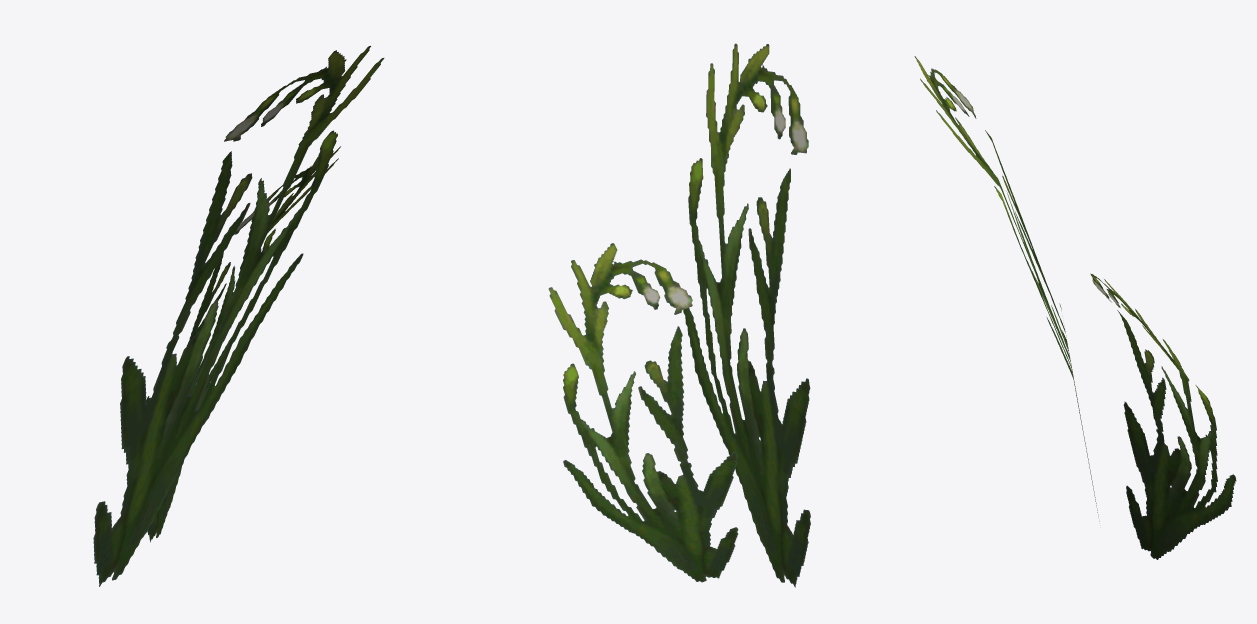
The model's file is 3004_Item_cao_1.FBX.
The picture shows the model from 3 angles, left to right: view 1: azimuth 30°, elevation 25°; view 2: azimuth 150°, elevation 25°; view 3: azimuth 270°, elevation 25°; orthographic projection. The views are drawn at different scales.
Parts seen in each view (by area): view 1: 3004_Item_cao_1; view 2: 3004_Item_cao_1; view 3: 3004_Item_cao_1.
Boxes of the visible parts, x1,y1,x2,y2 form: 3004_Item_cao_1: [93, 46, 384, 586]; 3004_Item_cao_1: [548, 43, 810, 587]; 3004_Item_cao_1: [914, 56, 1236, 559].
Size of the model in its own units: 200 by 276 by 151.
